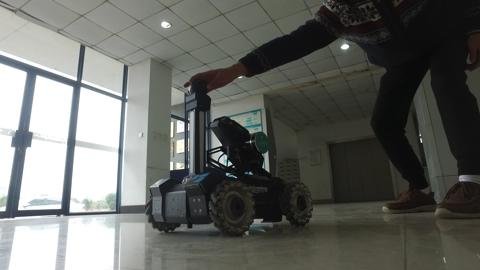chariot: (130, 73, 329, 242)
